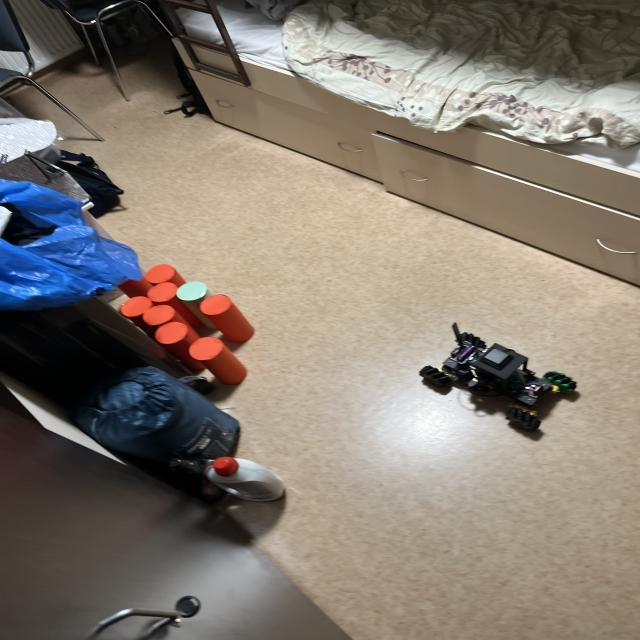robot: (419, 323, 576, 431)
